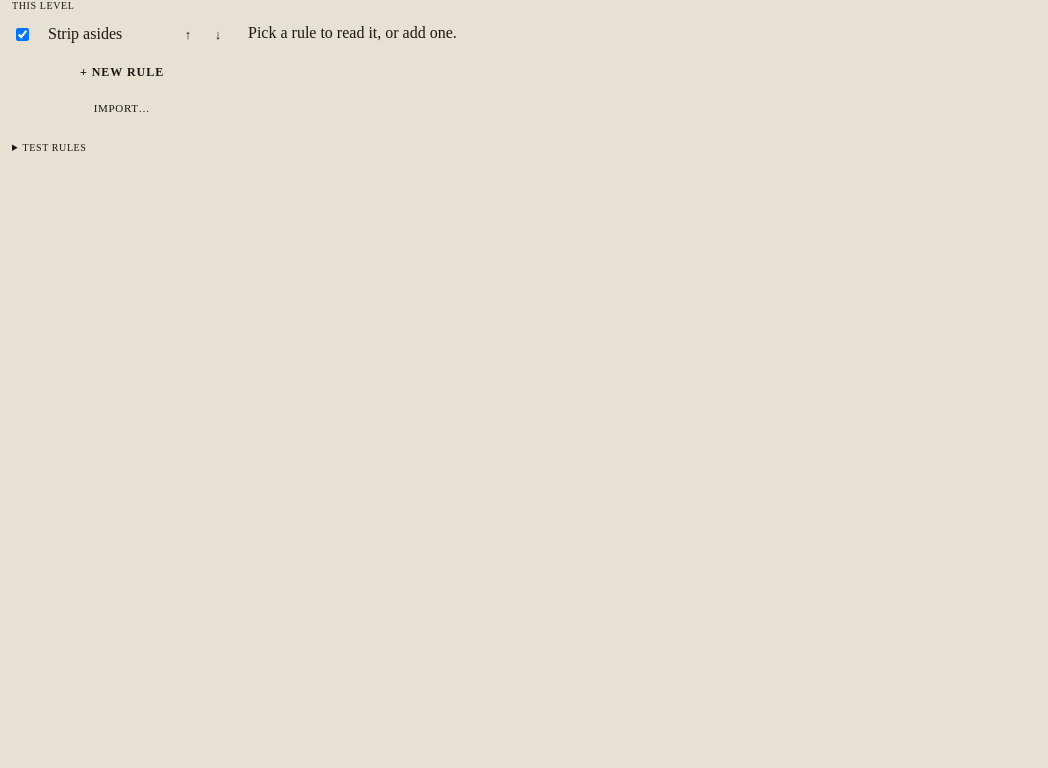
Test: Cancel returns to the read-only view
Click the button "Strip asides": (103, 34) [38,17,168,51]
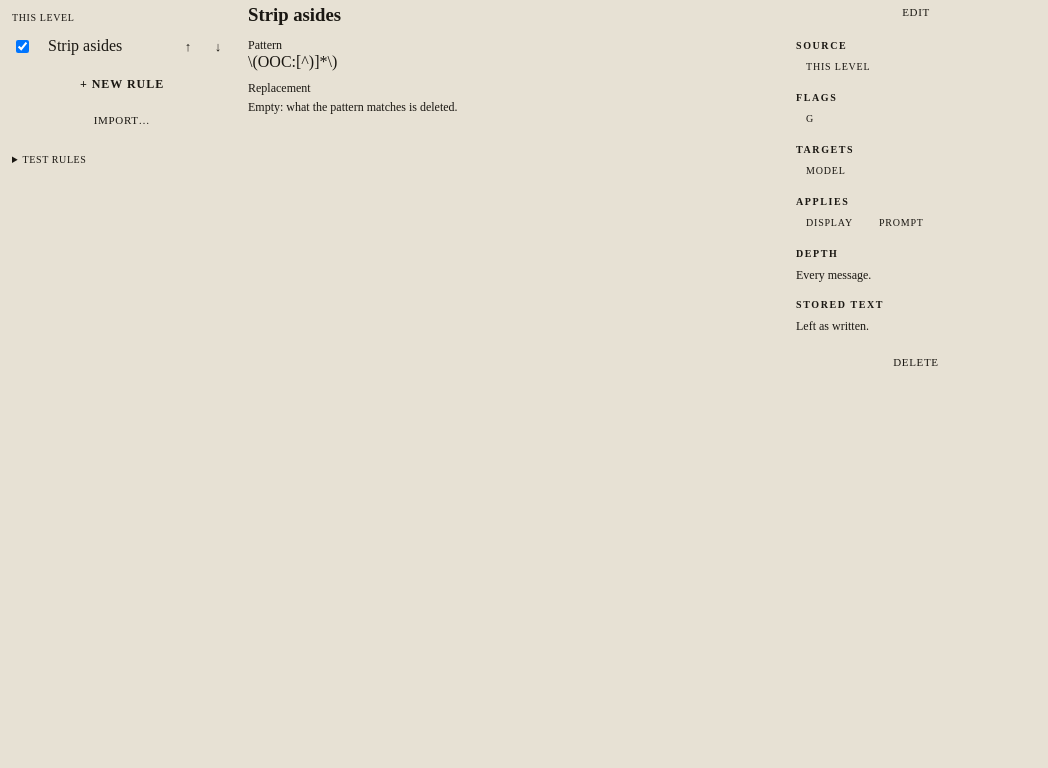
Click the button "Edit": (916, 12) [796,0,1036,24]
(page scrolled)
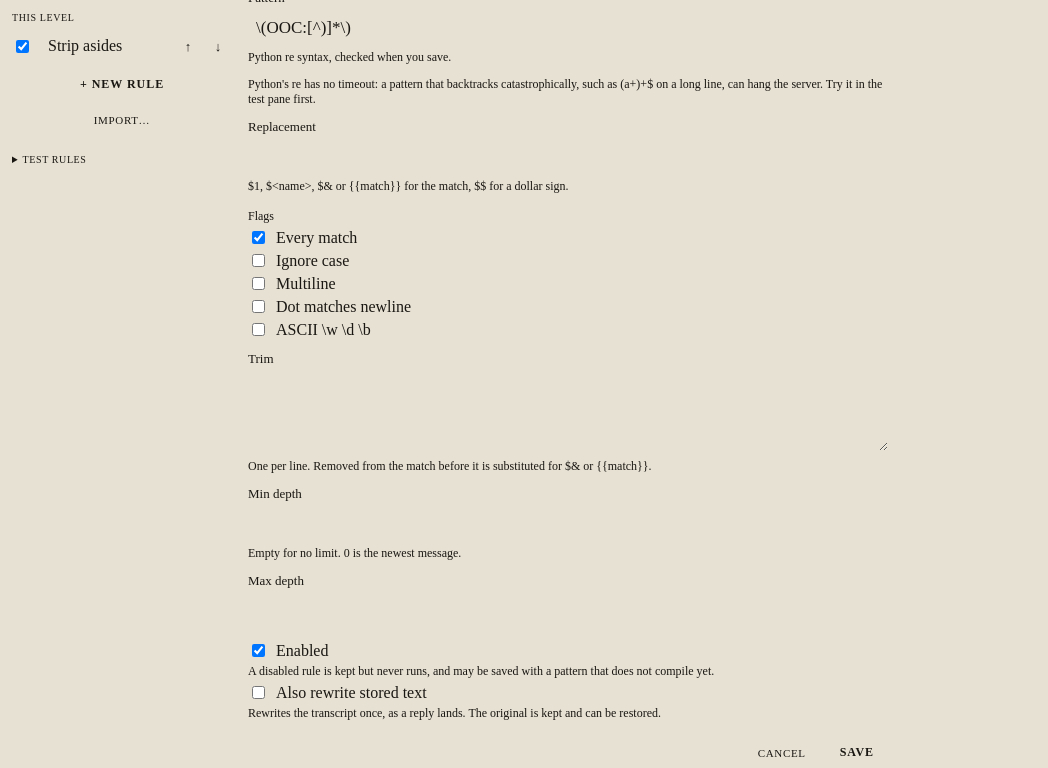
Click the button "Cancel": (782, 753) [746,737,818,767]
(page scrolled)
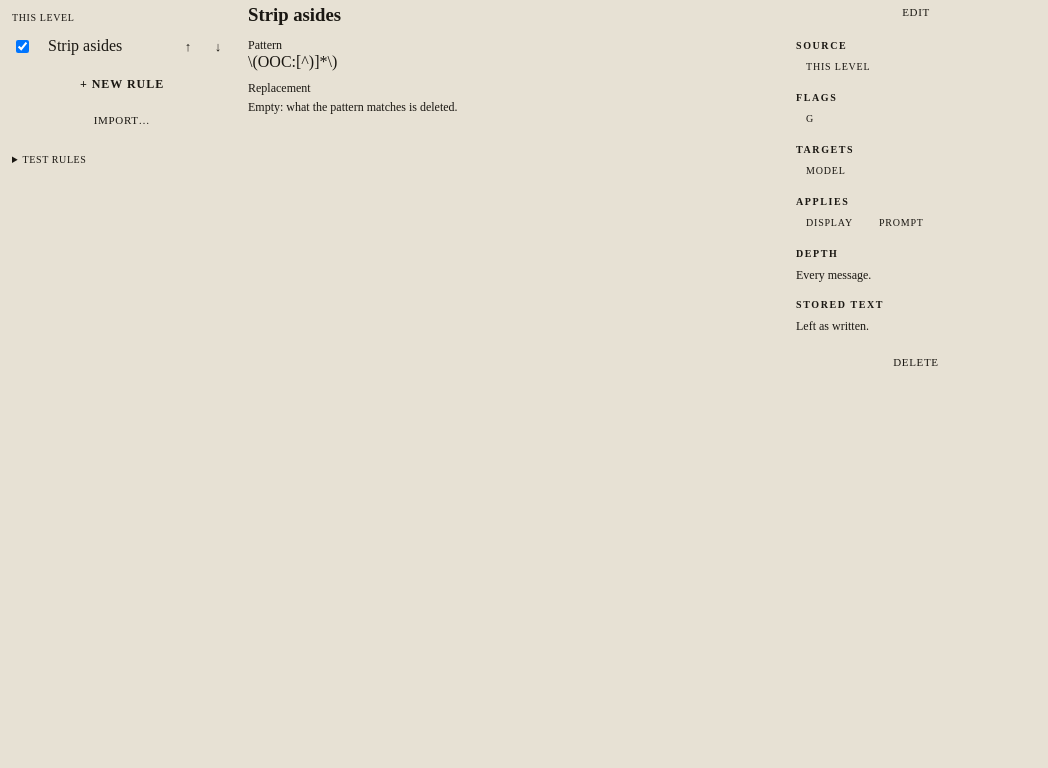
Expected: the heading "Strip asides" is shown, [248,4,341,25]
